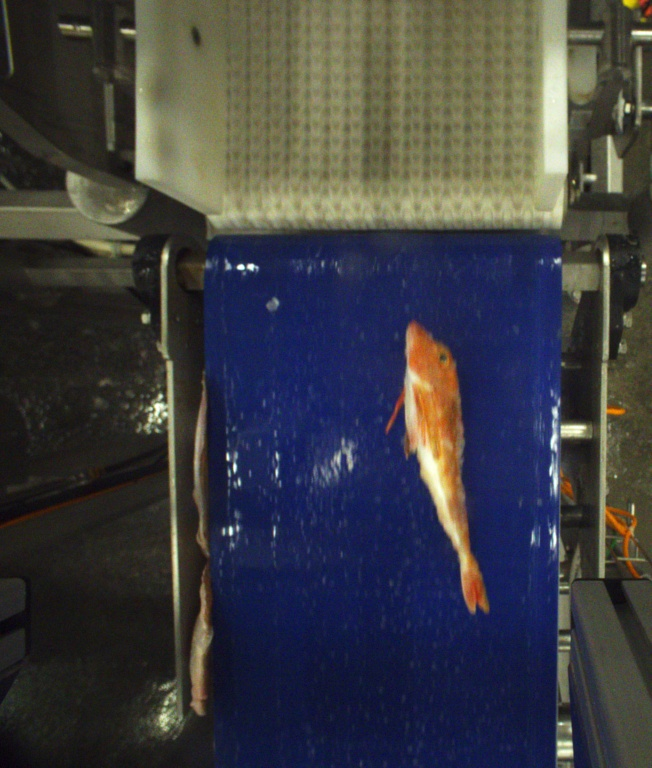GUU: (384, 322, 489, 616)
